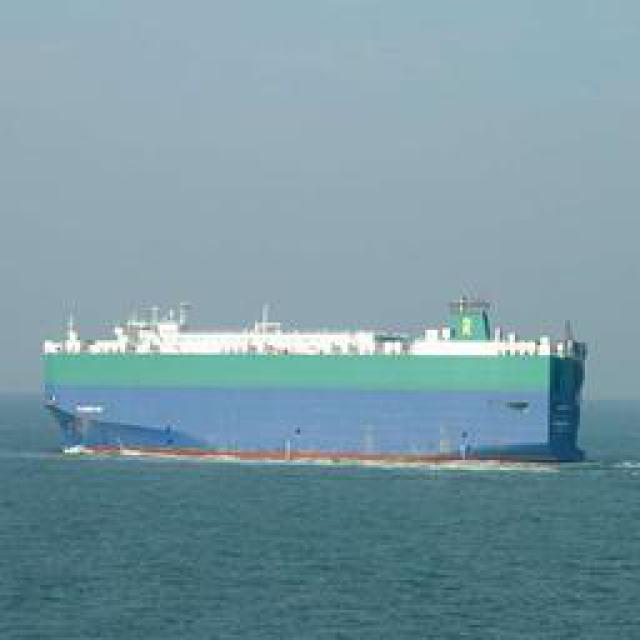Ship: (37, 298, 595, 470)
